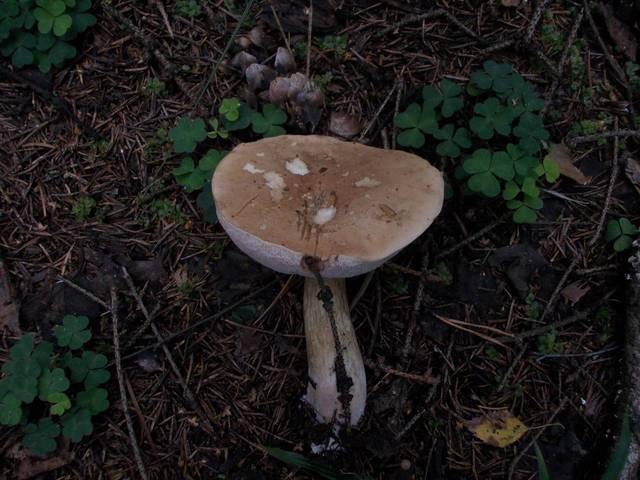Non-edible Mushroom: (209, 132, 445, 444)
